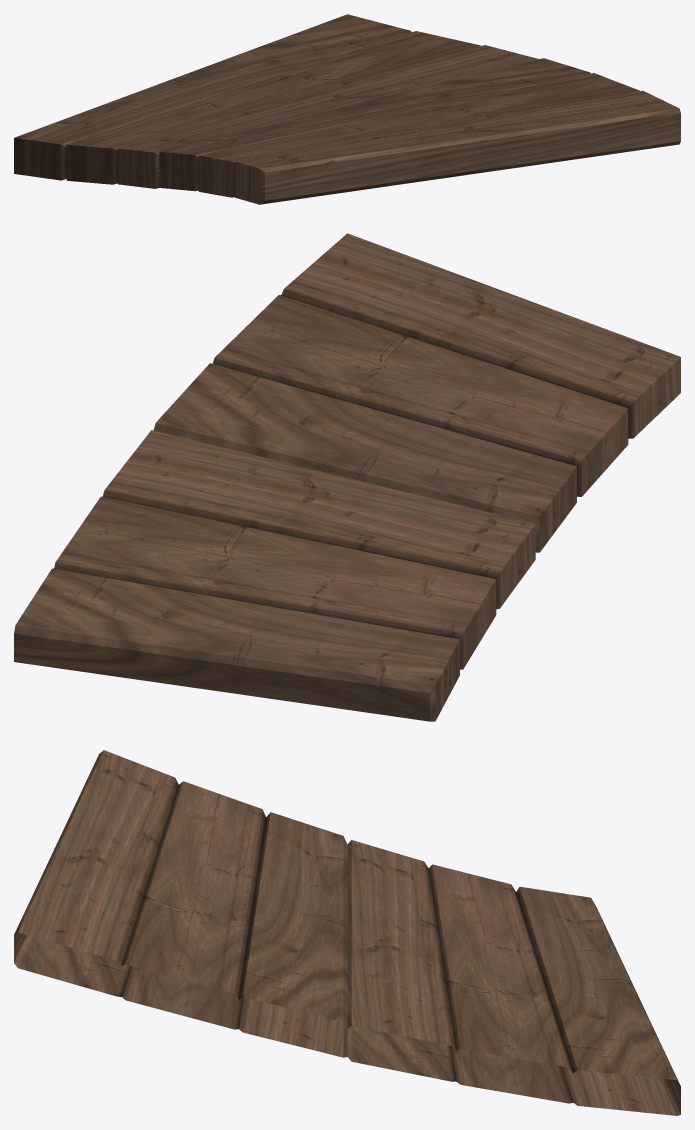
File: SM_I_ChunkyRamp.FBX
3 views of the same model, one above another, from view 1: azimuth 30°, elevation 25°; view 2: azimuth 150°, elevation 25°; view 3: azimuth 270°, elevation 25° (orthographic).
Parts seen in each view (by area): view 1: SM_I_DeckingPlanks005; view 2: SM_I_DeckingPlanks005; view 3: SM_I_DeckingPlanks005.
Boxes of the visible parts, box(x1,y1,x2,y2) form: SM_I_DeckingPlanks005: box(14, 14, 680, 204); SM_I_DeckingPlanks005: box(14, 233, 680, 721); SM_I_DeckingPlanks005: box(14, 750, 680, 1115).
Bounding box in the file's own units: 88.71 × 38.71 × 128.
